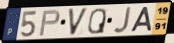5: (19, 9, 40, 38)
A: (129, 6, 153, 33)
J: (112, 6, 133, 34)
P: (38, 9, 61, 38)
Q: (86, 7, 107, 35)
V: (67, 7, 89, 37)
